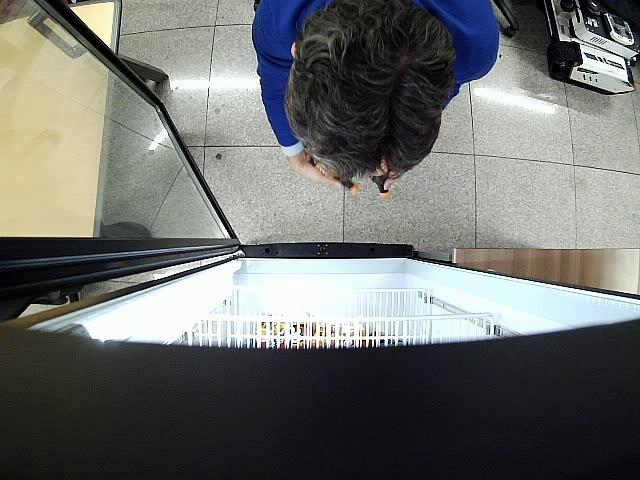17_vita500: (310, 157, 360, 195), (368, 173, 392, 198)
